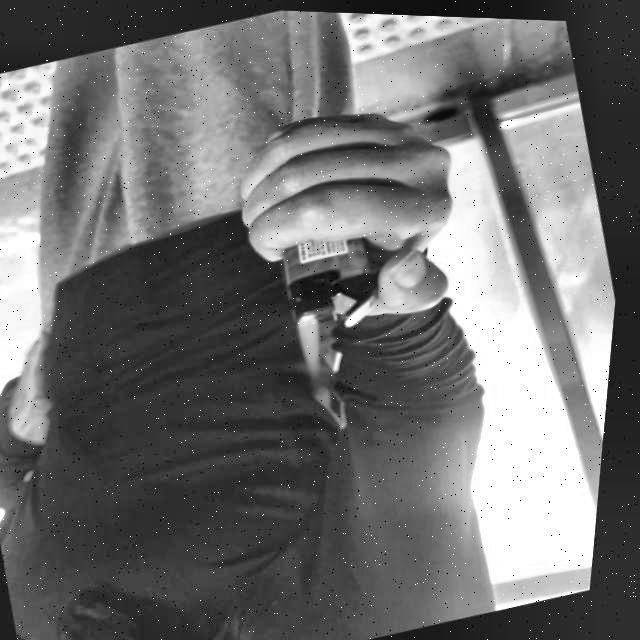Fire: (293, 307, 340, 378)
